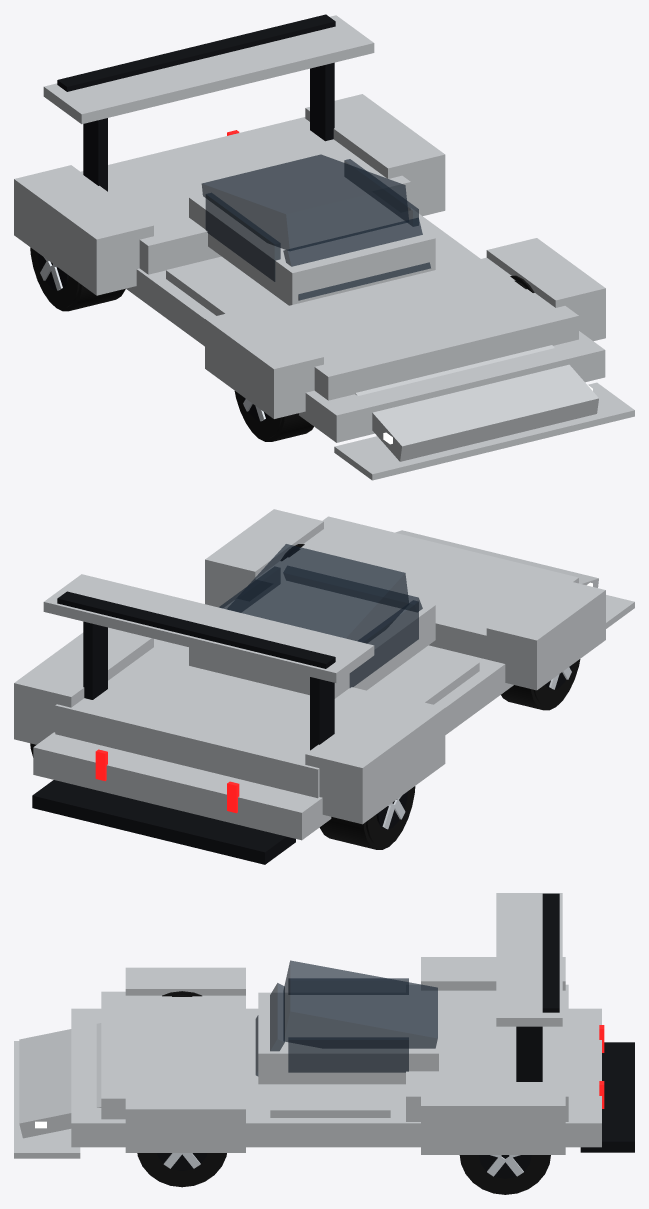
The model's file is king-egg-kraken.glb.
The picture shows the model from 3 angles, top to bottom: view 1: azimuth 30°, elevation 25°; view 2: azimuth 150°, elevation 25°; view 3: azimuth 270°, elevation 25°; orthographic projection. The views are drawn at different scales.
Visible parts, largest first — view 1: chassis, glass (×2), wheel-back-left, wheel-front-left; view 2: chassis, glass (×2), wheel-back-left, wheel-front-left; view 3: chassis, glass (×2), wheel-back-right, wheel-front-right.
Boxes of the visible parts, x1,y1,x2,y2 form: chassis: [14, 14, 634, 480]; glass (×2): [201, 154, 430, 300]; wheel-back-left: [30, 247, 125, 311]; wheel-front-left: [234, 391, 313, 441]; chassis: [14, 509, 634, 864]; glass (×2): [227, 544, 422, 643]; wheel-back-left: [319, 786, 415, 849]; wheel-front-left: [501, 659, 580, 710]; chassis: [14, 893, 634, 1158]; glass (×2): [255, 960, 437, 1075]; wheel-back-right: [459, 1155, 550, 1194]; wheel-front-right: [137, 1153, 226, 1187].
Bounding box in the file's own units: 2.92 × 1.58 × 5.15.
